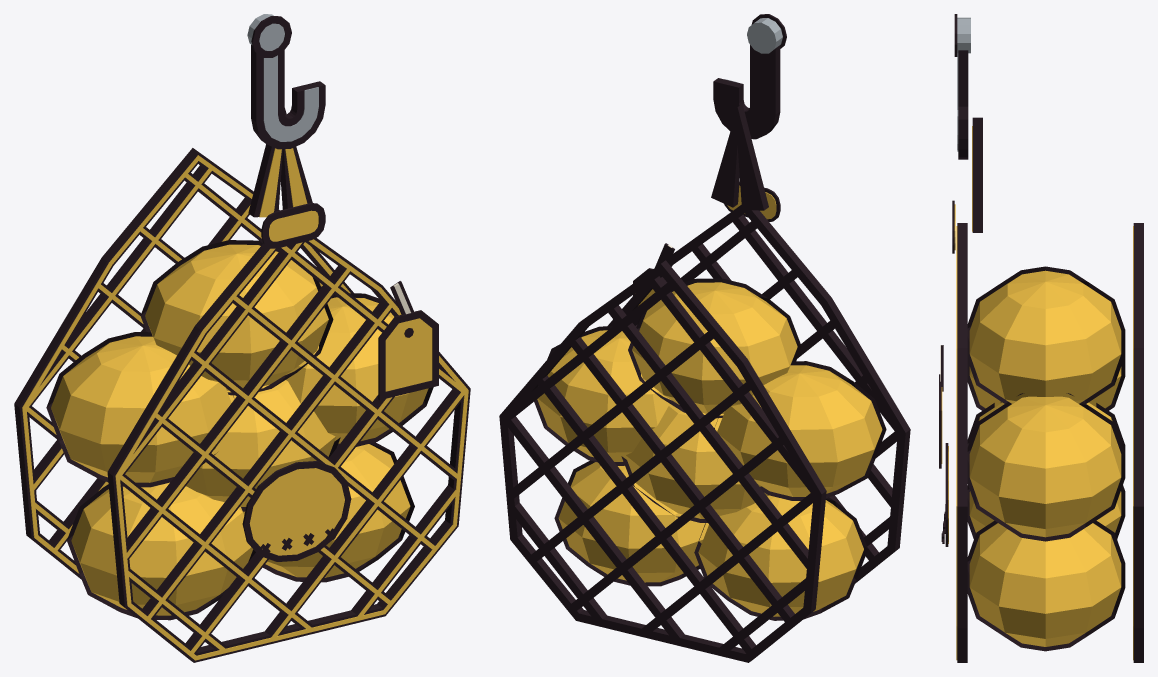
The picture shows the model from 3 angles, left to right: view 1: azimuth 30°, elevation 25°; view 2: azimuth 150°, elevation 25°; view 3: azimuth 270°, elevation 25°; orthographic projection. The views are drawn at different scales.
Visible parts, largest first — view 1: Bag Holders proposal; view 2: Bag Holders proposal; view 3: Bag Holders proposal.
Boxes of the visible parts, <box> form: Bag Holders proposal: <box>14,14,470,662</box>; Bag Holders proposal: <box>499,14,910,662</box>; Bag Holders proposal: <box>939,14,1143,662</box>.
Size of the model in its own units: 0.6276 by 1.01 by 0.315.
